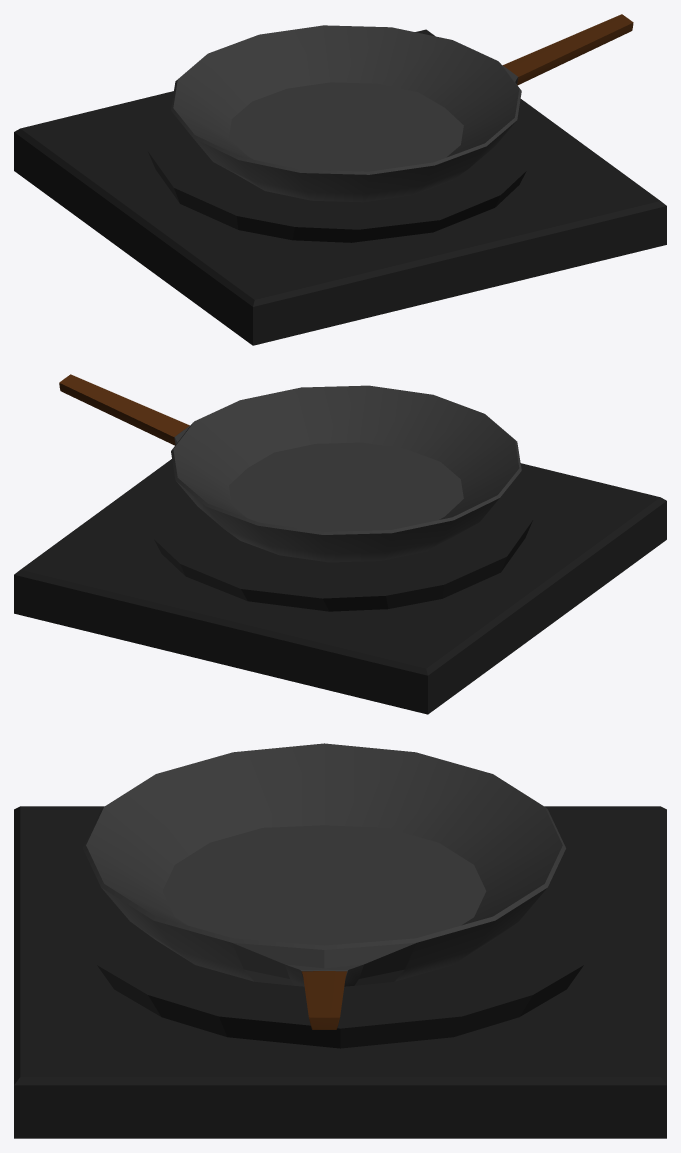
Rendered from StoveTop.fbx.
The picture shows the model from 3 angles, top to bottom: view 1: azimuth 30°, elevation 25°; view 2: azimuth 150°, elevation 25°; view 3: azimuth 270°, elevation 25°; orthographic projection. The views are drawn at different scales.
Visible parts, largest first — view 1: Stovetop, Pan; view 2: Stovetop, Pan; view 3: Stovetop, Pan.
Boxes of the visible parts, x1,y1,x2,y2 form: Stovetop: [14, 29, 666, 345]; Pan: [171, 14, 633, 202]; Stovetop: [14, 459, 666, 714]; Pan: [59, 374, 521, 562]; Stovetop: [14, 806, 666, 1138]; Pan: [82, 743, 565, 1029].
Bounding box in the file's own units: 80.42 × 19.7 × 68.13.
